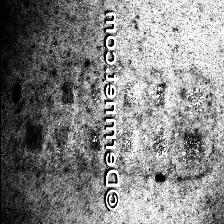Toxin: (3, 77, 26, 115), (151, 149, 166, 193)
